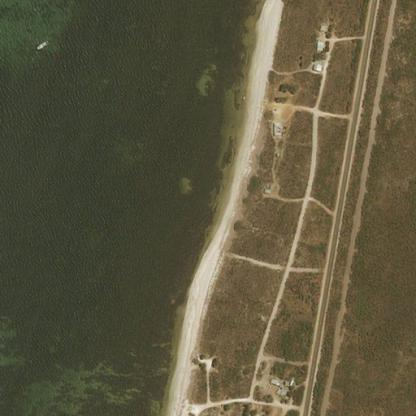ship: (36, 40, 48, 49)
